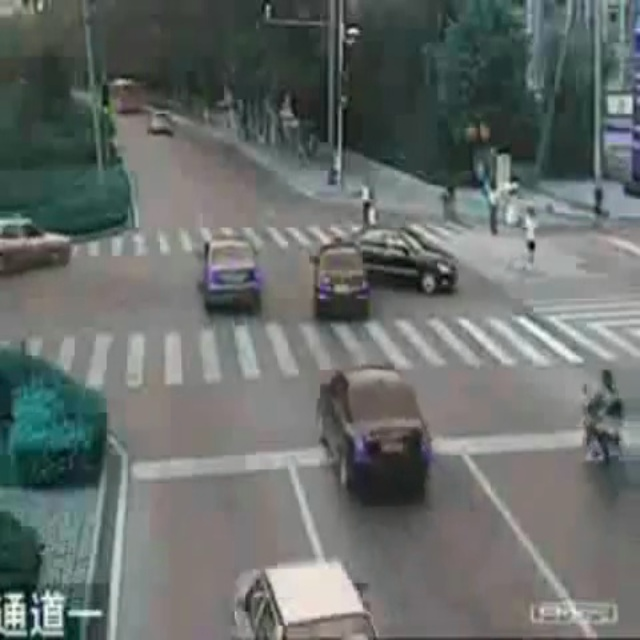acc: (316, 225, 460, 320)
